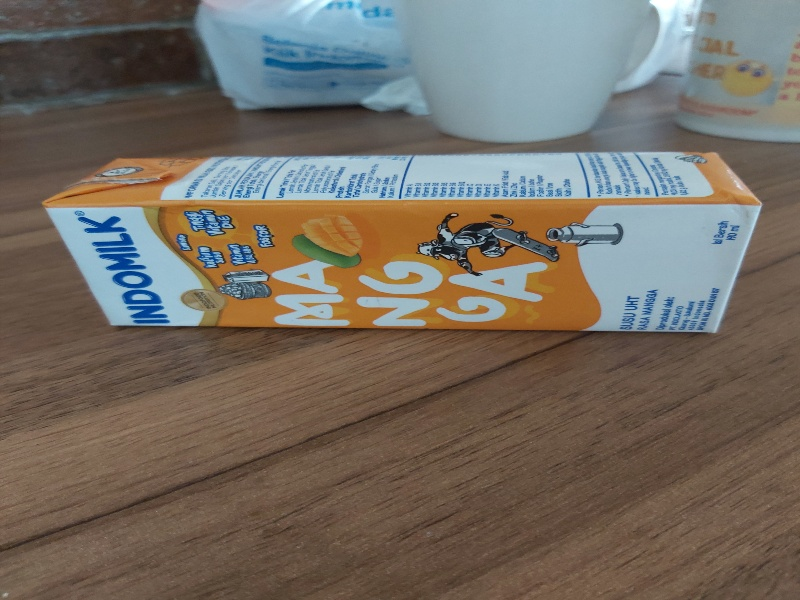mangga: (43, 150, 765, 336)
